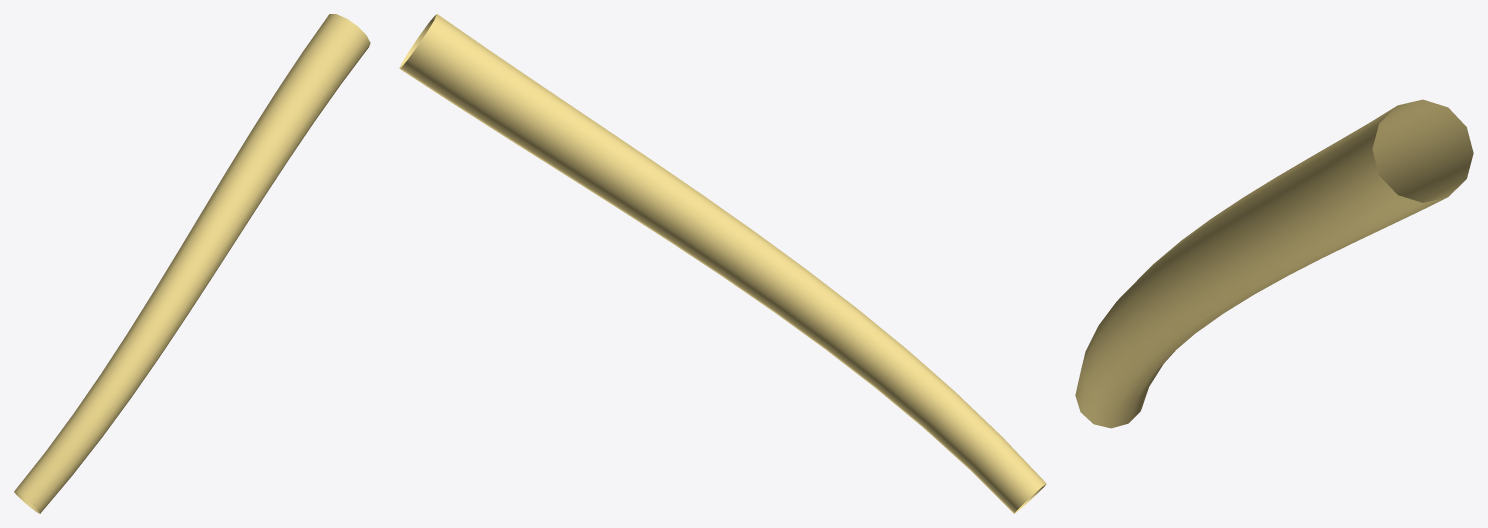
The picture shows the model from 3 angles, left to right: view 1: azimuth 30°, elevation 25°; view 2: azimuth 150°, elevation 25°; view 3: azimuth 270°, elevation 25°; orthographic projection. The views are drawn at different scales.
Visible parts, largest first — view 1: ZA_686f957fd7b6b9f0; view 2: ZA_686f957fd7b6b9f0; view 3: ZA_686f957fd7b6b9f0.
Boxes of the visible parts, left/top/right/bottom form: ZA_686f957fd7b6b9f0: left=14, top=14, right=370, bottom=513; ZA_686f957fd7b6b9f0: left=399, top=14, right=1046, bottom=513; ZA_686f957fd7b6b9f0: left=1075, top=99, right=1473, bottom=428.
Bounding box in the file's own units: 0.028 × 0.022 × 0.0114.
